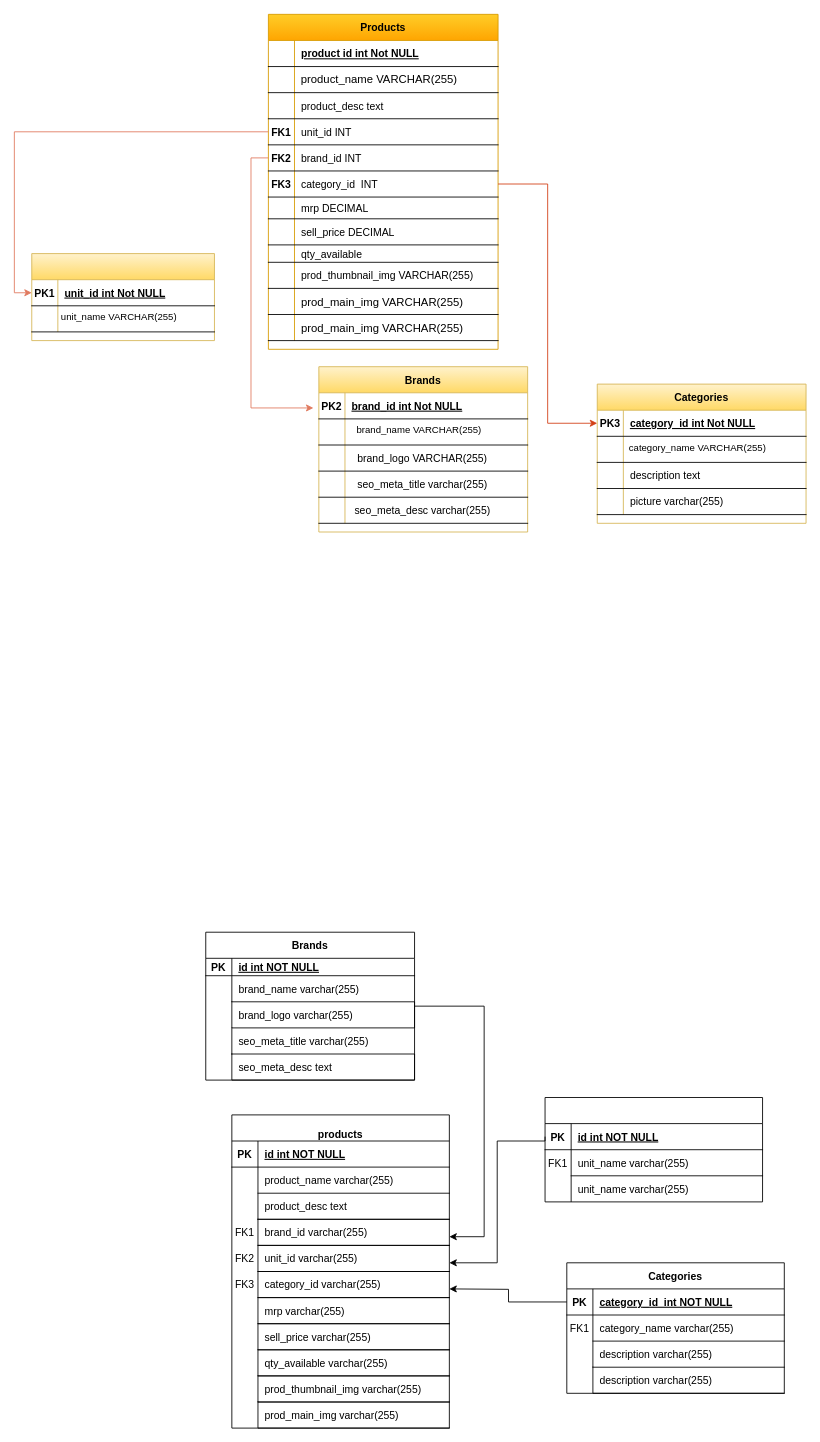
This 820x1442 diagram has some shape labels left out. Each missing label, with the box of its shape:
Unites: (31, 253, 214, 341)
Units: (544, 1097, 763, 1202)
